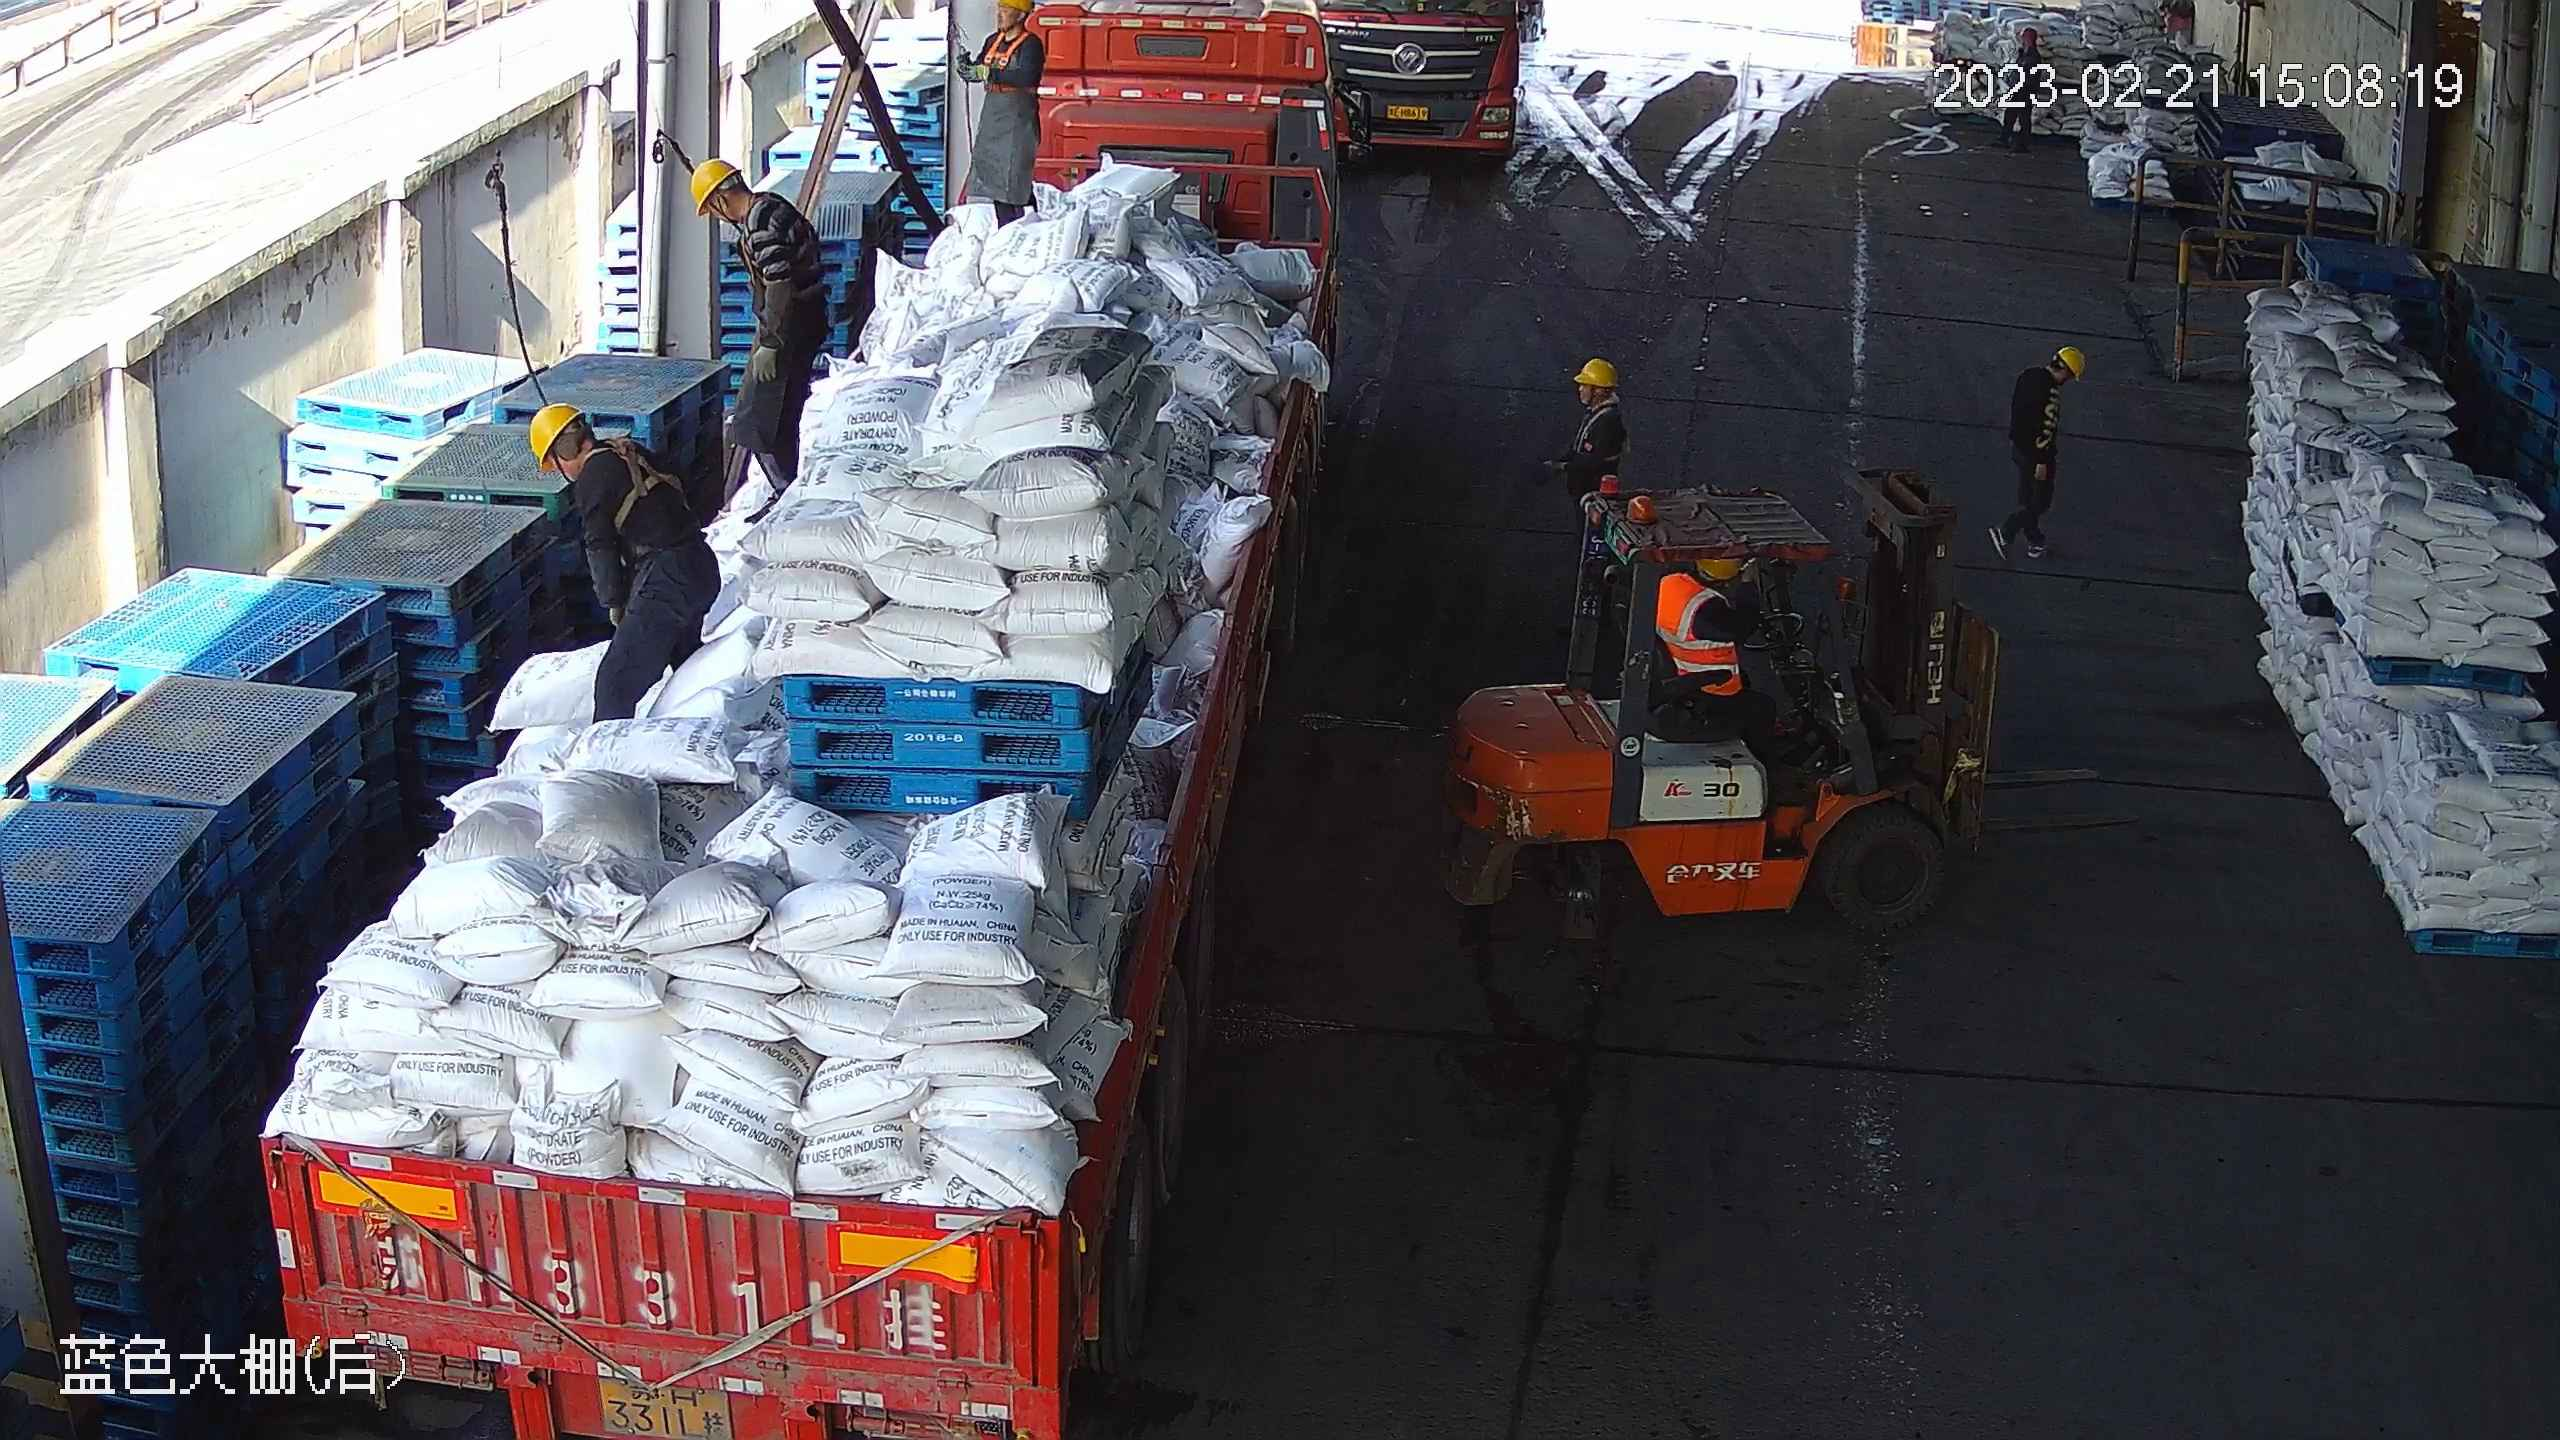belt: (590, 444, 679, 527), (984, 32, 1028, 62)
head: (521, 401, 649, 509), (686, 153, 784, 258), (1663, 553, 1744, 634), (1570, 357, 1627, 427), (2025, 341, 2086, 404), (992, 1, 1037, 67)
helmet: (520, 399, 584, 467), (683, 155, 735, 206), (1569, 355, 1621, 392), (1692, 551, 1737, 590), (2056, 343, 2090, 383)
people: (516, 393, 718, 722), (677, 155, 835, 523), (1656, 551, 1818, 753), (1992, 339, 2092, 571), (962, 1, 1058, 227), (1563, 357, 1634, 567)
truck: (262, 1, 1337, 1440)
